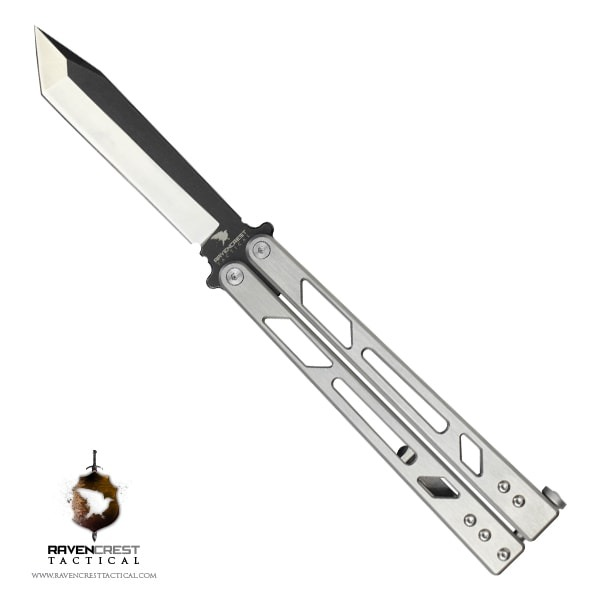knife: (29, 24, 561, 577)
